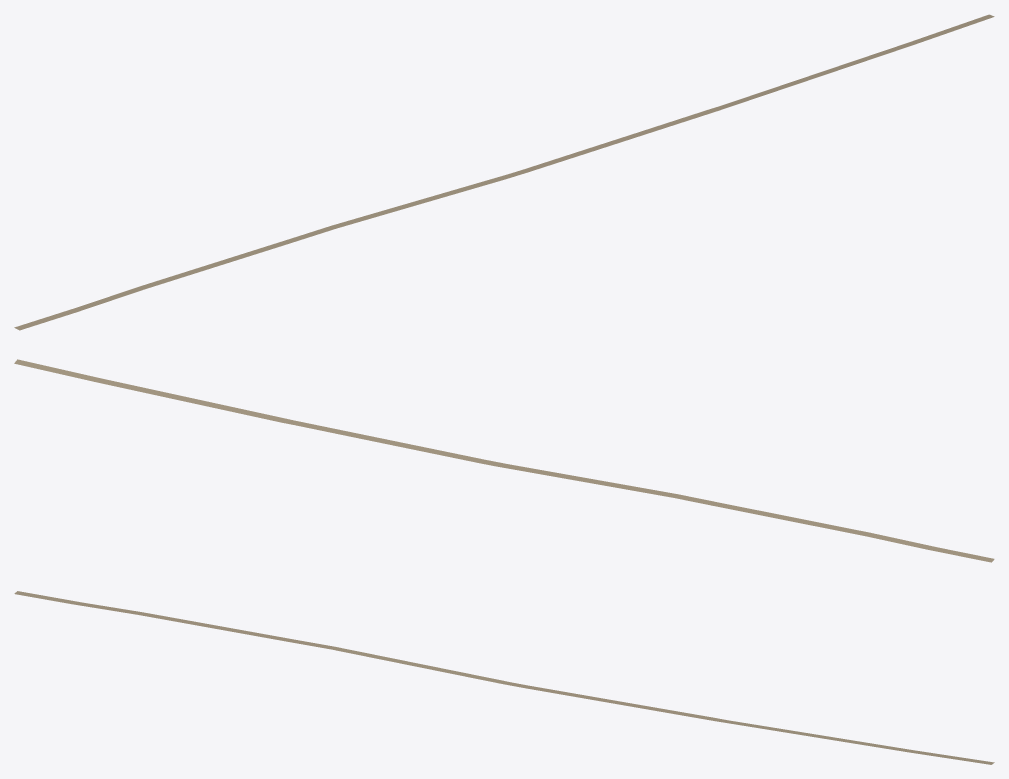
The model's file is farm_-4_0_track.glb.
3 views of the same model, one above another, from view 1: azimuth 30°, elevation 25°; view 2: azimuth 150°, elevation 25°; view 3: azimuth 330°, elevation 25° (orthographic). The views are drawn at different scales.
Parts seen in each view (by area): view 1: geometry_0; view 2: geometry_0; view 3: geometry_0.
Part boxes in pixels (<box>): geometry_0: <box>14,14,994,330</box>; geometry_0: <box>14,359,994,562</box>; geometry_0: <box>14,591,994,764</box>.
Bounding box in the file's own units: 406 × 6.15 × 44.77.
